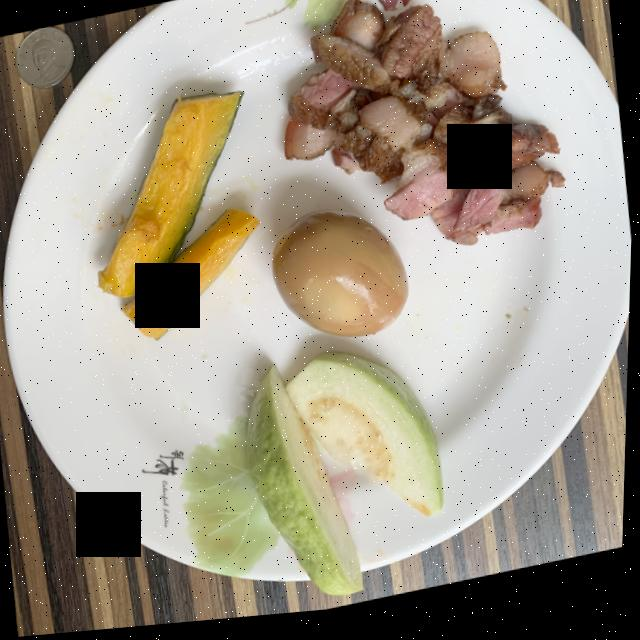coin: (16, 27, 74, 88)
grilled pork: (285, 4, 566, 254)
guava -sliced-: (249, 359, 446, 601)
pumpkin: (100, 96, 259, 342)
soy egg: (274, 216, 410, 343)
